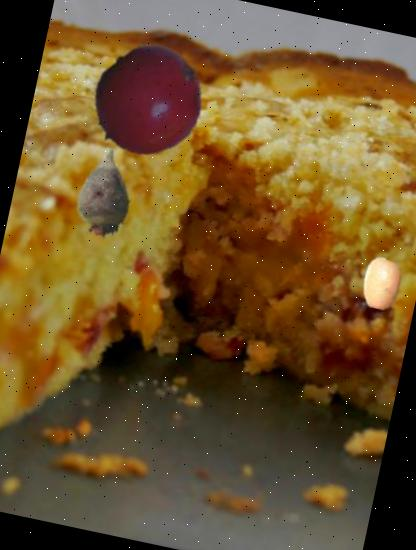Beetroot: (48, 138, 160, 252)
Kumquats: (351, 253, 413, 316)
Pomegranate: (76, 32, 216, 171)
